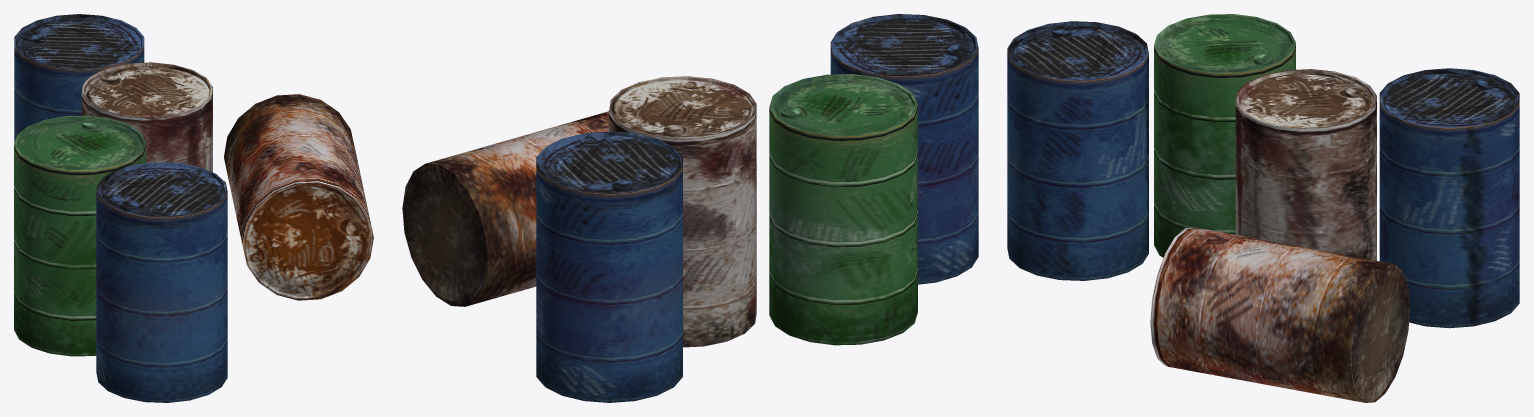
Rendered from barrels.fbx.
3 renders of one model, left to right at view 1: azimuth 30°, elevation 25°; view 2: azimuth 150°, elevation 25°; view 3: azimuth 270°, elevation 25°, orthographic. The views are drawn at different scales.
Parts seen in each view (by area): view 1: barell07, barell01, barell02, barell05, barell06; view 2: barell02, barell05, barell06, barell07, barell01; view 3: barell01, barell07, barell05, barell06, barell02.
Part boxes in pixels (x1,y1,x2,y2): barell07: (96, 162, 227, 402); barell01: (224, 94, 373, 300); barell02: (14, 115, 145, 356); barell05: (14, 14, 144, 142); barell06: (81, 62, 212, 172); barell02: (769, 74, 917, 345); barell05: (536, 131, 682, 402); barell06: (609, 76, 756, 347); barell07: (830, 14, 978, 284); barell01: (402, 111, 608, 306); barell01: (1150, 227, 1409, 402); barell07: (1007, 21, 1148, 280); barell05: (1379, 68, 1519, 328); barell06: (1235, 69, 1376, 260); barell02: (1154, 14, 1295, 257).
Bounding box in the file's own units: 233 × 110 × 245.
